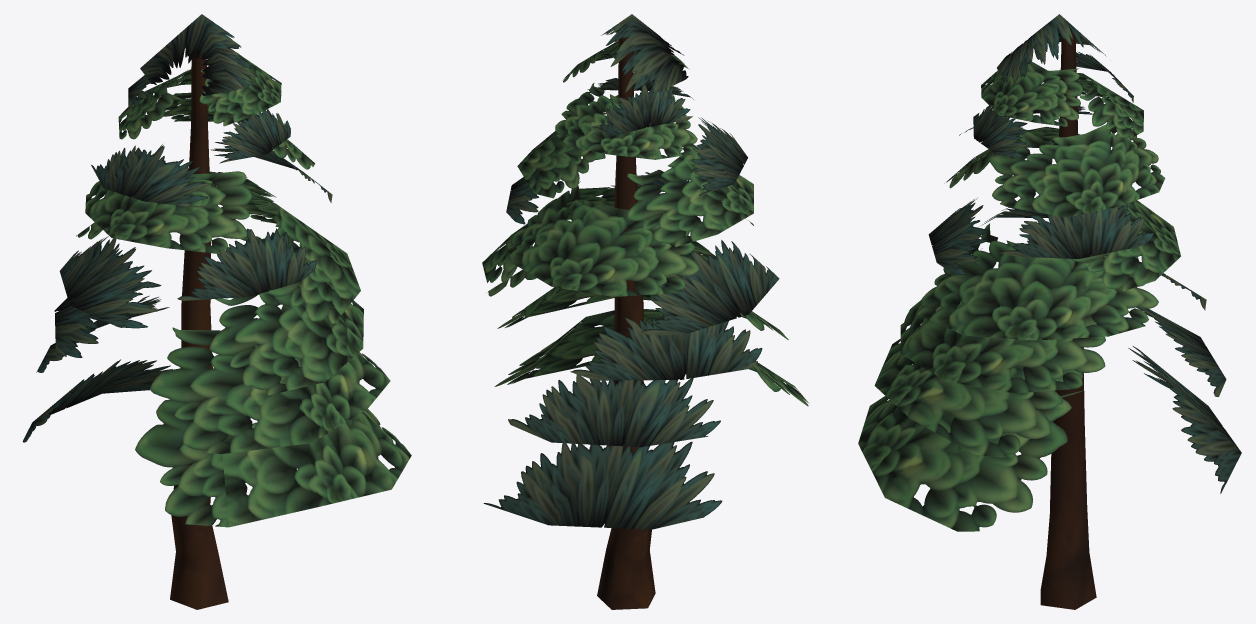
The model's file is Pine_tree.fbx.
3 views of the same model, side by side, from view 1: azimuth 30°, elevation 25°; view 2: azimuth 150°, elevation 25°; view 3: azimuth 270°, elevation 25° (orthographic).
Parts seen in each view (by area): view 1: Pine_tree_large; view 2: Pine_tree_large; view 3: Pine_tree_large.
Boxes of the visible parts, x1,y1,x2,y2 form: Pine_tree_large: (22,14,411,609); Pine_tree_large: (482,14,809,609); Pine_tree_large: (858,14,1241,609).
Size of the model in its own units: 334 by 545 by 325.
